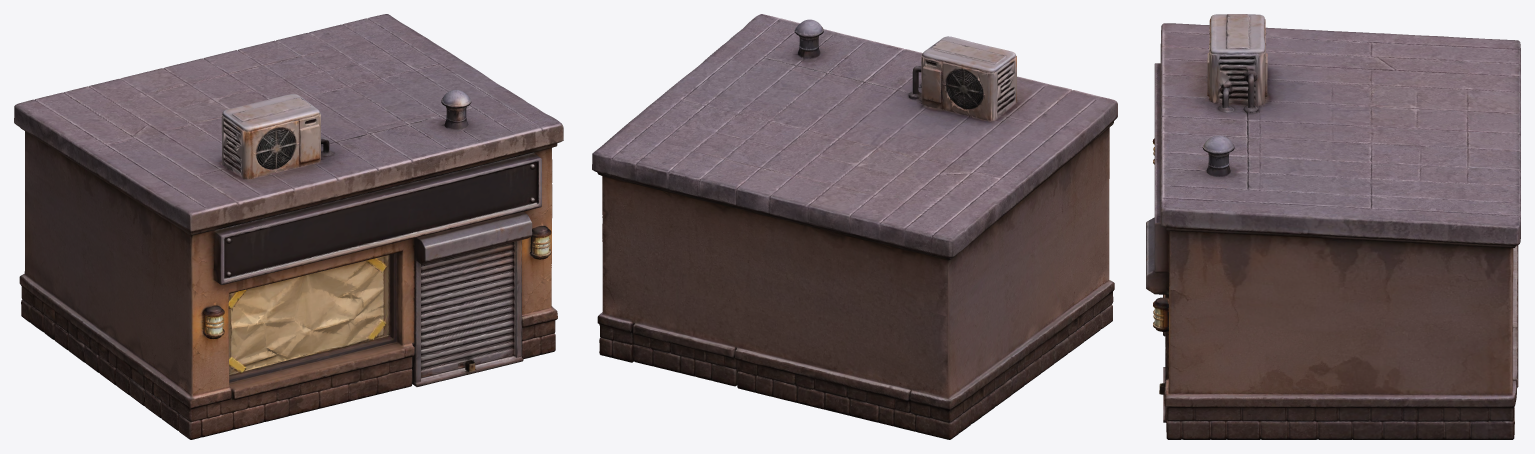
The model's file is storefront.glb.
3 renders of one model, left to right at view 1: azimuth 30°, elevation 25°; view 2: azimuth 150°, elevation 25°; view 3: azimuth 270°, elevation 25°, orthographic. The views are drawn at different scales.
Visible parts, largest first — view 1: tripo_node_942a6a08-4eba-4a4c-888e-6588746b1f40; view 2: tripo_node_942a6a08-4eba-4a4c-888e-6588746b1f40; view 3: tripo_node_942a6a08-4eba-4a4c-888e-6588746b1f40.
Part boxes in pixels (x1=…): tripo_node_942a6a08-4eba-4a4c-888e-6588746b1f40: x1=14, y1=14, x2=563, y2=439; tripo_node_942a6a08-4eba-4a4c-888e-6588746b1f40: x1=592, y1=14, x2=1117, y2=439; tripo_node_942a6a08-4eba-4a4c-888e-6588746b1f40: x1=1146, y1=14, x2=1520, y2=439.
Bounding box in the file's own units: 0.9801 × 0.6922 × 0.8256.
1 material, 1 textured.
